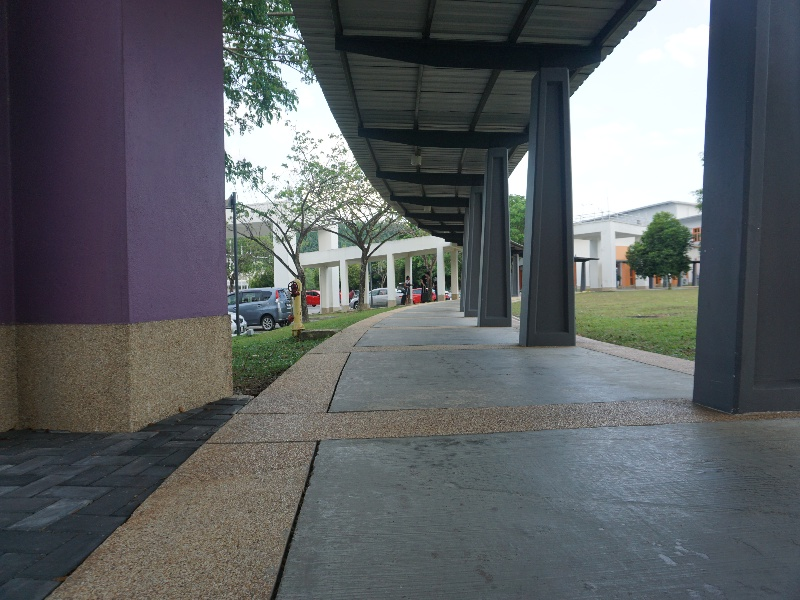Block D Pillar 7: (1, 1, 800, 520)
pillar: (1, 6, 237, 434), (698, 10, 800, 396), (517, 64, 579, 350), (478, 136, 512, 334)
